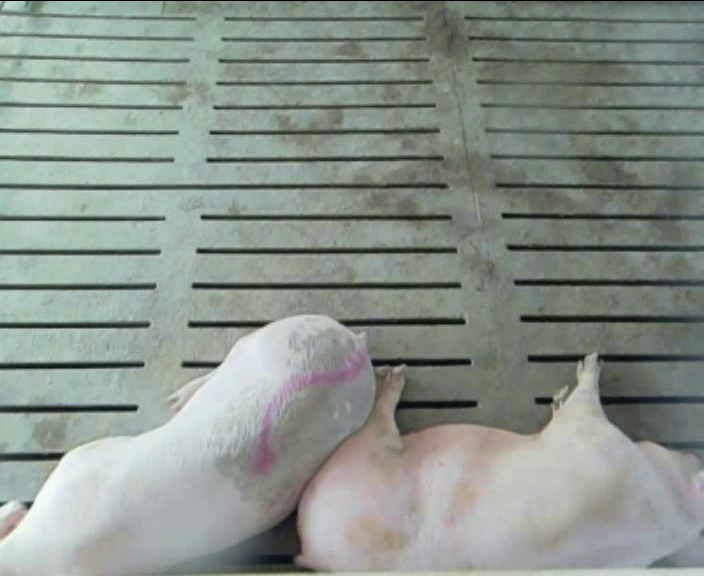pig: (0, 315, 374, 574), (297, 354, 703, 569)
